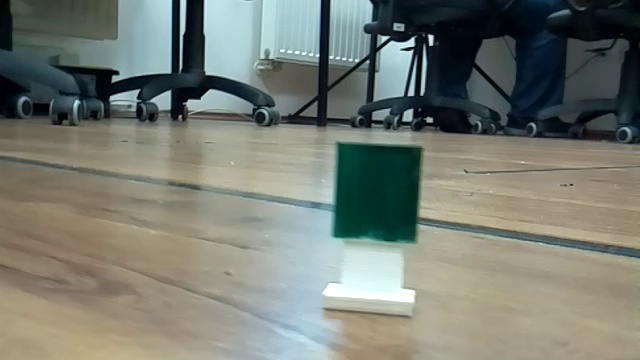rect: (323, 143, 429, 324)
